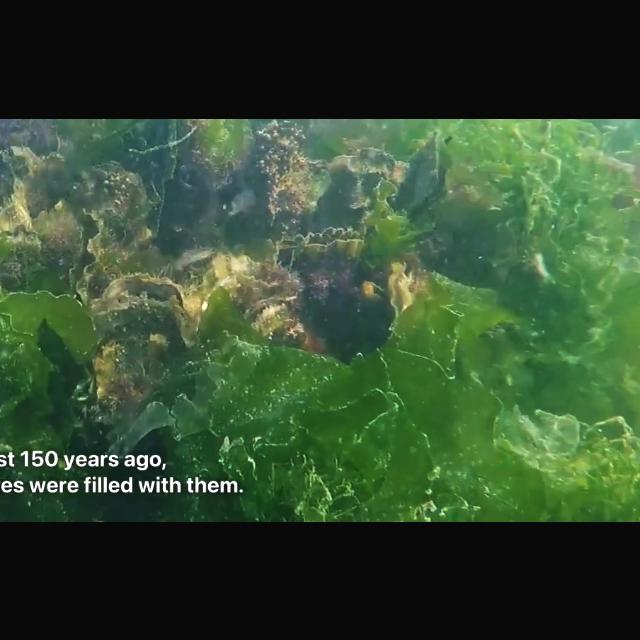Oyster-Closed: (316, 146, 412, 234), (70, 159, 152, 259), (248, 120, 316, 230)
Oyster-Open: (90, 273, 190, 403), (190, 252, 300, 324), (13, 150, 77, 262), (390, 126, 454, 228), (68, 206, 132, 300), (273, 226, 365, 274), (240, 293, 306, 345), (0, 202, 40, 254), (386, 260, 416, 314), (354, 280, 386, 306)
